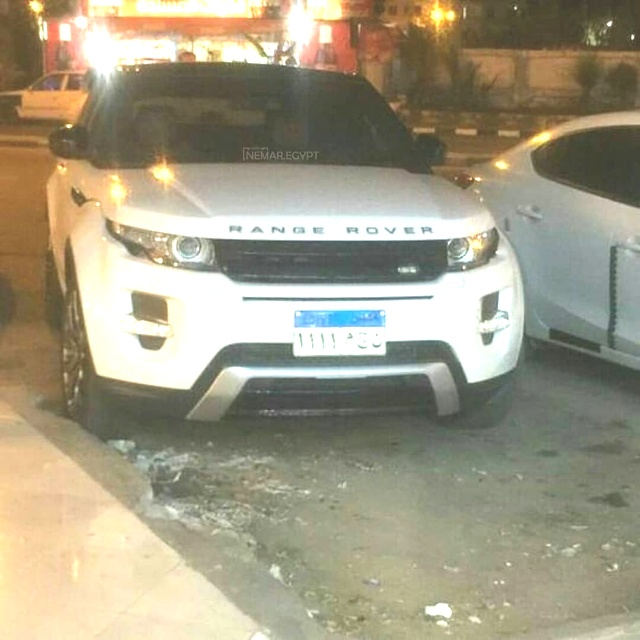License Plate: (290, 308, 387, 359)
